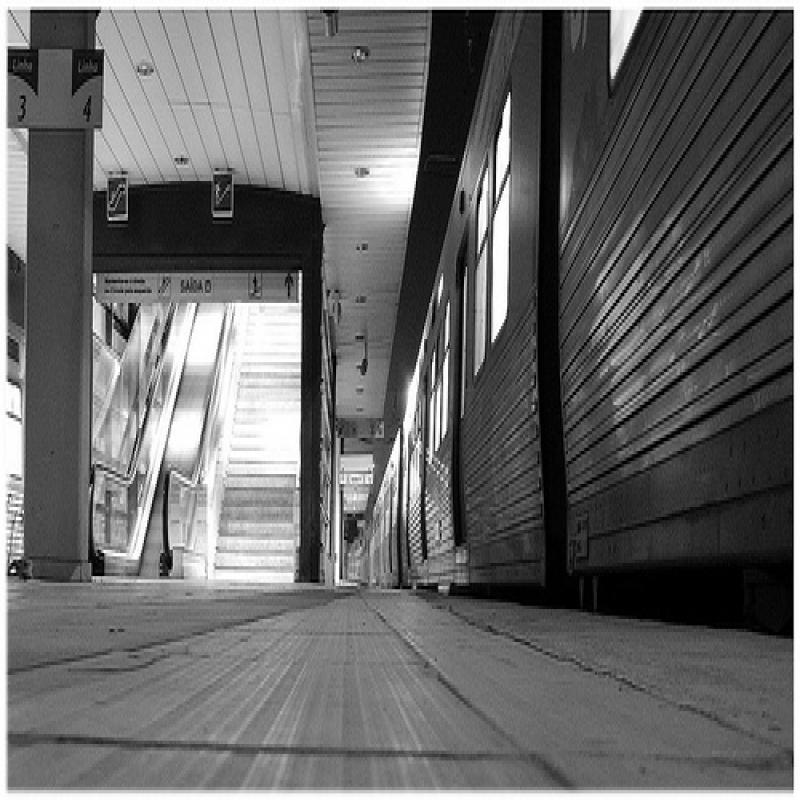train: (350, 11, 798, 600)
